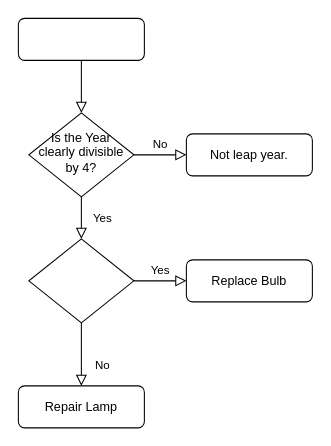
Image size: 331x446. Some labels were removed from this diagram. The shapes that lost their labels are listed below. From the top down, each one's centre as x and y in pixels, then its label:
At point (80, 38): "Start".
At point (81, 280): "is the year clearly divisible by 100?".
